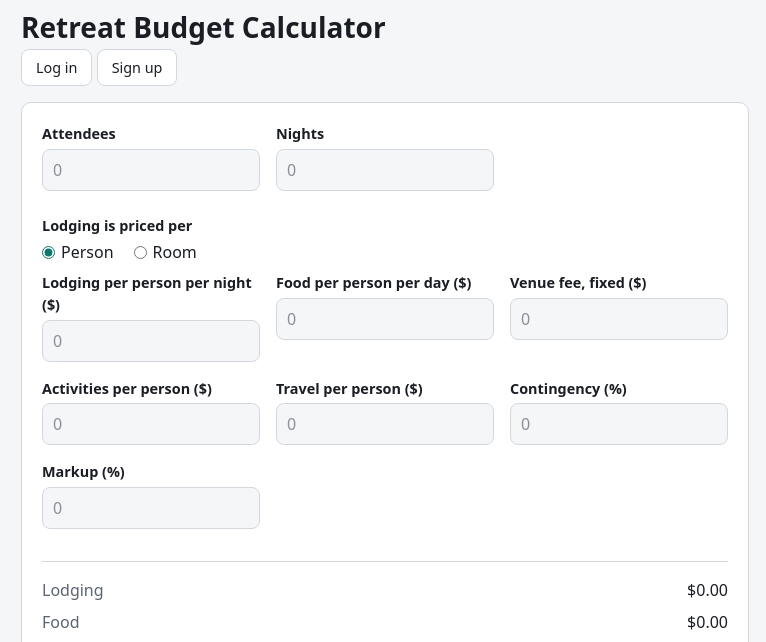
Test: log in › signs in a confirmed user and shows who is signed in
The width and height of the screenshot is (766, 642).
Click the button "Log in": x=57, y=67 [21,49,92,86]
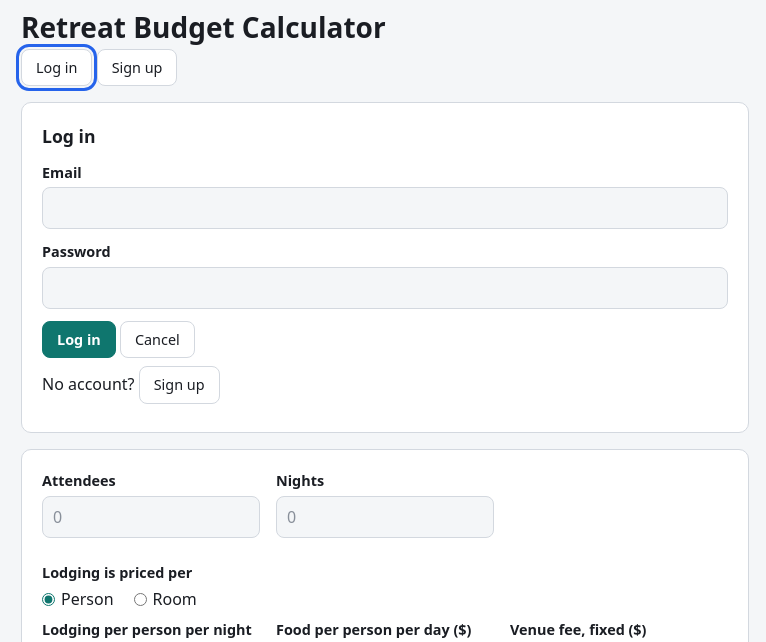
Clear the field labelled "Email": x=385, y=208 [42,187,728,229]
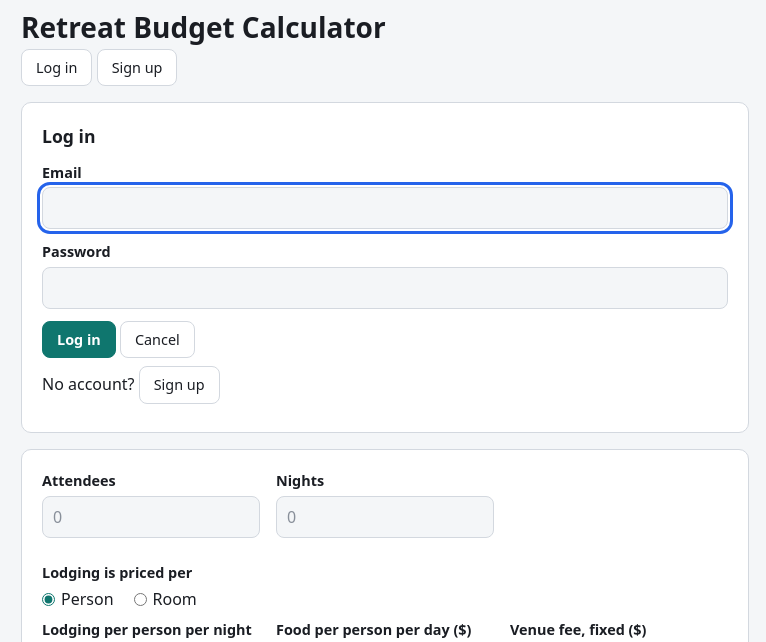
Clear the password field labelled "Password": x=385, y=288 [42,267,728,309]
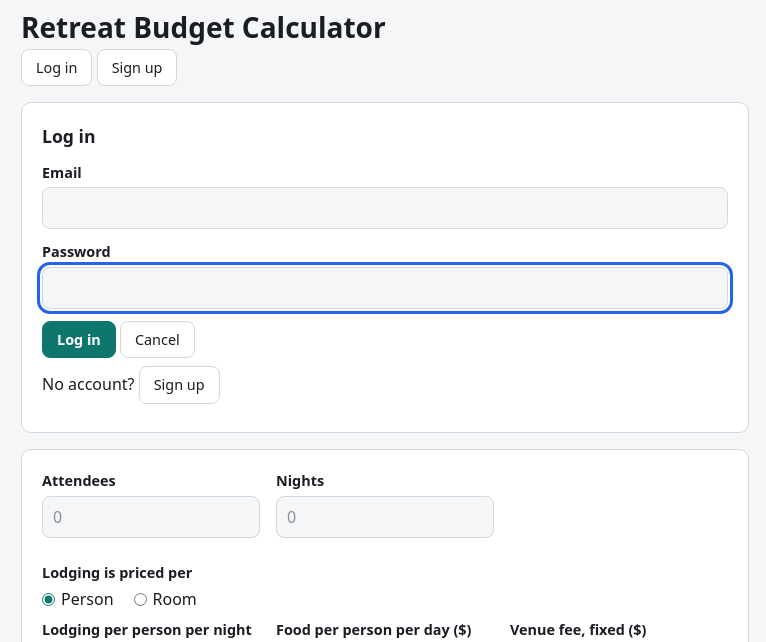
In the field labelled "Email": x=385, y=208 [42,187,728,229], type "me@example.com"
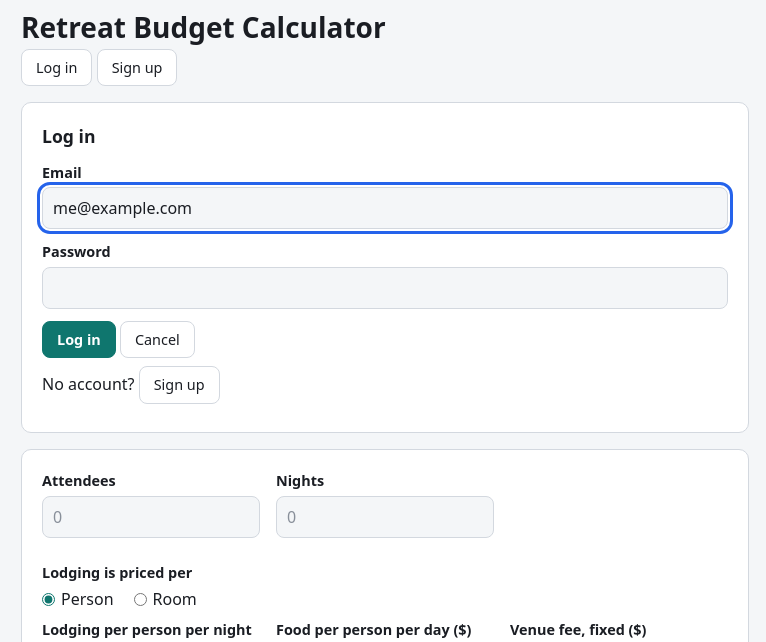
In the password field labelled "Password": x=385, y=288 [42,267,728,309], type "correct-horse-9"
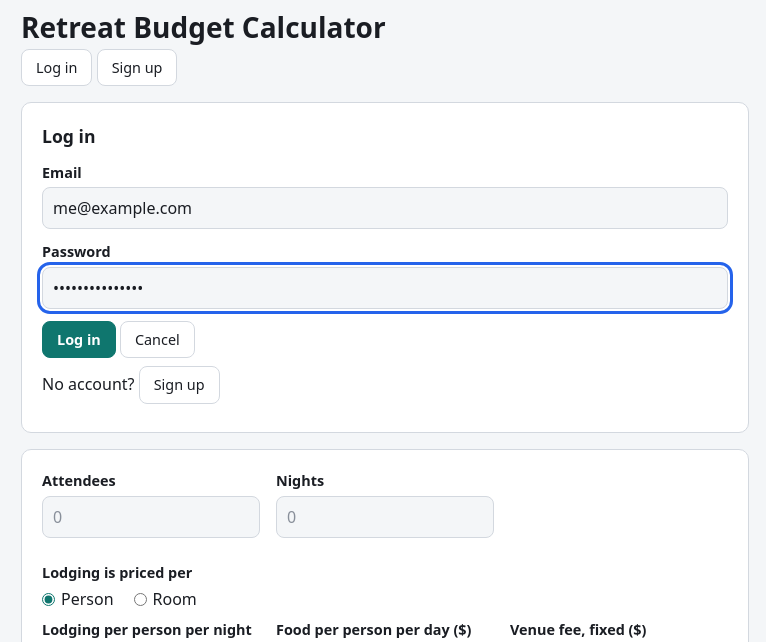
Click the submit button: x=79, y=340 [42,321,116,358]
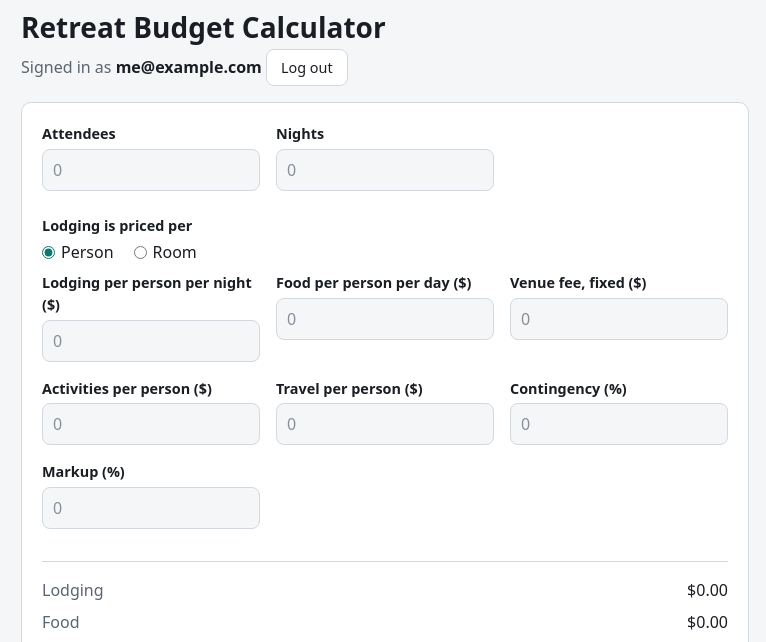
Result: the text "me@example.com" is shown at [116,56,262,78]
Result: the button "Log out" is shown at [266,49,348,86]
Result: the label labelled "Password" is gone
